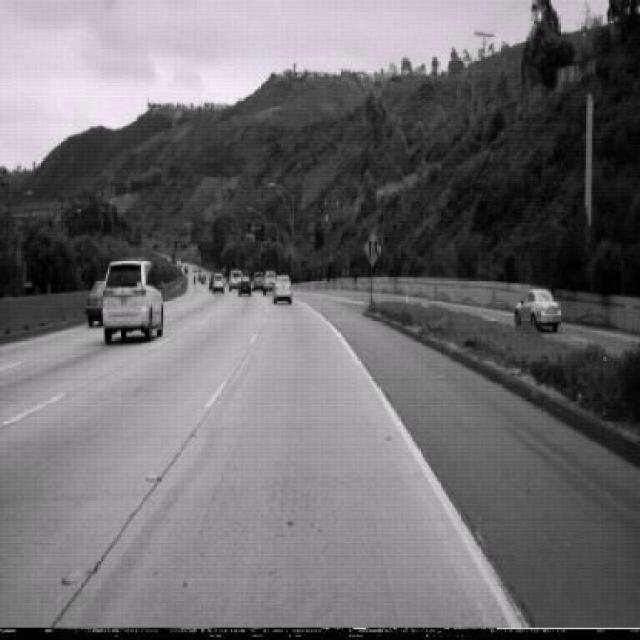addedLane: (363, 230, 382, 268)
